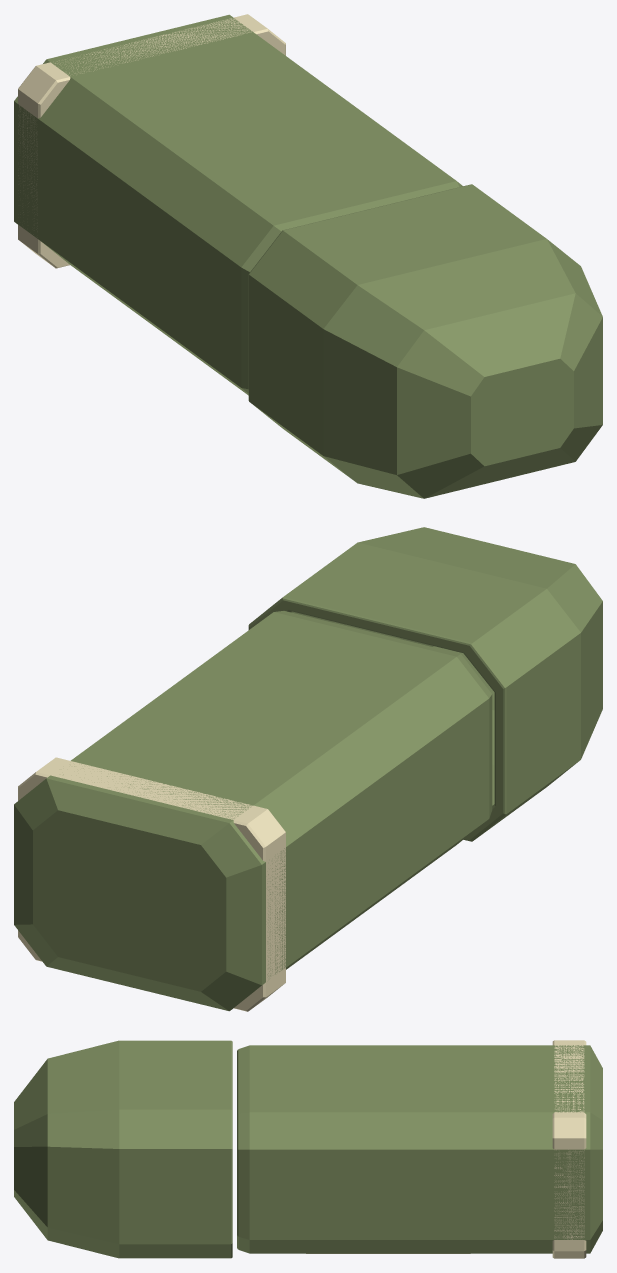
Rendered from deodorant.glb.
3 views of the same model, one above another, from view 1: azimuth 30°, elevation 25°; view 2: azimuth 150°, elevation 25°; view 3: azimuth 270°, elevation 25° (orthographic). The views are drawn at different scales.
Parts seen in each view (by area): view 1: deodorant; view 2: deodorant; view 3: deodorant.
Boxes of the visible parts, bbox=[...] form: deodorant: bbox=[14, 14, 602, 498]; deodorant: bbox=[14, 527, 602, 1011]; deodorant: bbox=[14, 1040, 602, 1258].
Size of the model in its own units: 0.053 by 0.0399 by 0.14.
